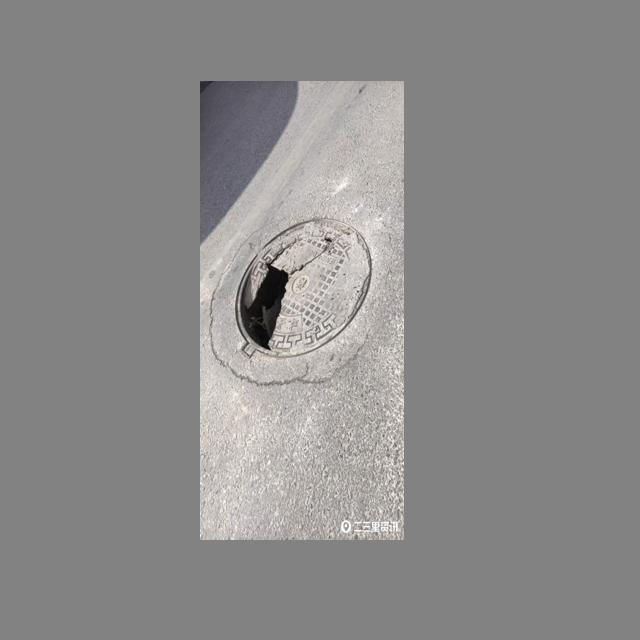broke: (211, 208, 388, 398)
